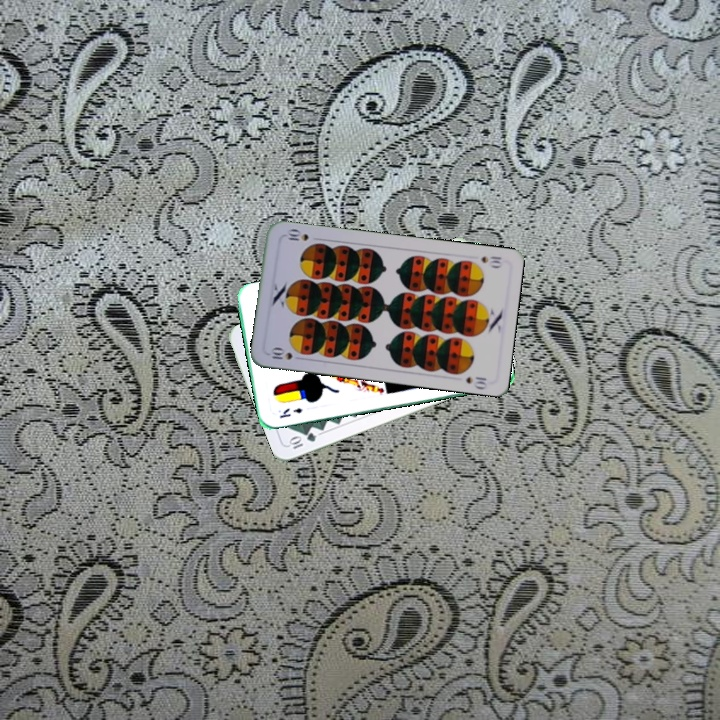EK: (275, 404, 305, 421)
G10: (285, 428, 319, 452)
S10: (266, 344, 295, 363), (477, 252, 504, 270)
